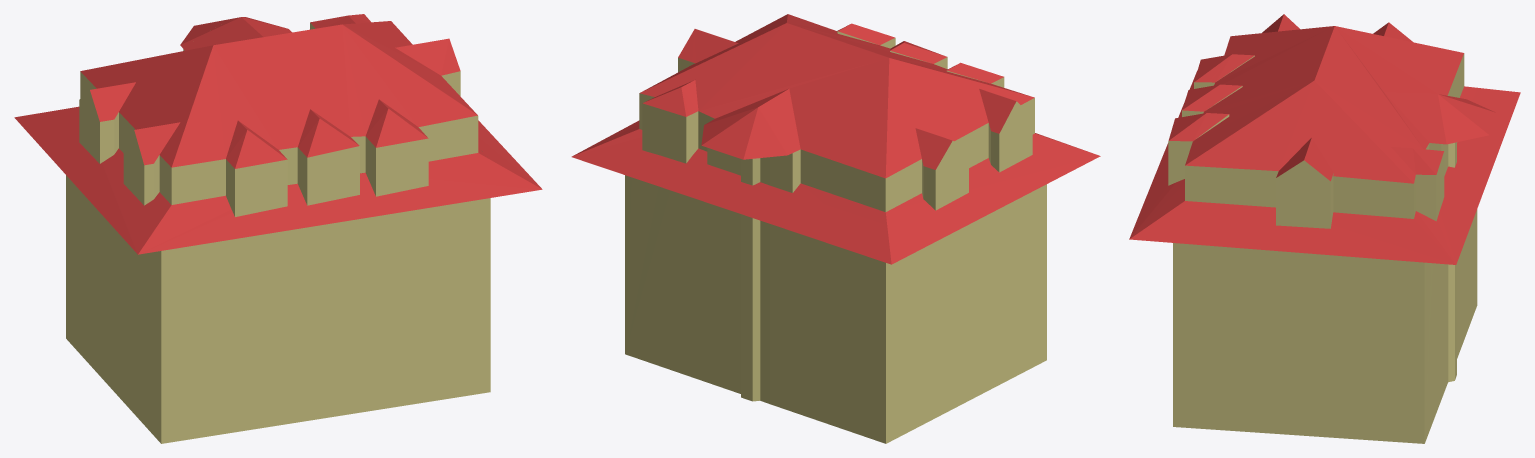
3 renders of one model, left to right at view 1: azimuth 30°, elevation 25°; view 2: azimuth 150°, elevation 25°; view 3: azimuth 270°, elevation 25°, orthographic. The views are drawn at different scales.
Visible parts, largest first — view 1: group_19, group_21, group_3, group_23, group_18, group_7, group_11, group_13, group_17, group_15, group_6, group_12 (+4 smaller); view 2: group_19, group_21, group_3, group_23, group_18, group_5, group_17, group_15, group_22, group_4, group_8, group_14 (+4 smaller); view 3: group_19, group_21, group_3, group_18, group_23, group_9, group_5, group_6, group_12, group_4, group_10, group_8 (+2 smaller).
Part boxes in pixels (x1,y1,x2,y2): group_19: (66,151,490,443); group_21: (80,17,477,167); group_3: (14,106,542,254); group_23: (80,49,478,204); group_18: (15,118,541,253); group_7: (365,137,428,196); group_11: (297,146,359,205); group_13: (226,159,287,216); group_17: (79,90,118,163); group_15: (123,130,159,205); group_6: (365,99,428,147); group_12: (226,120,287,168); group_19: (625,175,1046,443); group_21: (639,14,1034,178); group_3: (572,120,1100,264); group_23: (639,93,1034,212); group_18: (573,121,1099,264); group_5: (642,103,698,163); group_17: (922,141,968,210); group_15: (988,101,1032,172); group_22: (701,116,792,159); group_4: (642,80,698,116); group_8: (678,29,738,63); group_14: (979,89,1016,133); group_19: (1173,209,1477,443); group_21: (1185,26,1497,183); group_3: (1129,70,1520,264); group_18: (1130,83,1520,264); group_23: (1185,53,1464,218); group_9: (1276,160,1333,228); group_5: (1416,151,1444,221); group_6: (1168,113,1228,141); group_12: (1194,54,1254,82); group_4: (1391,147,1443,174); group_10: (1182,84,1242,111); group_8: (1276,137,1333,181).
Bounding box in the file's own units: 17.96 × 15.46 × 13.62.
